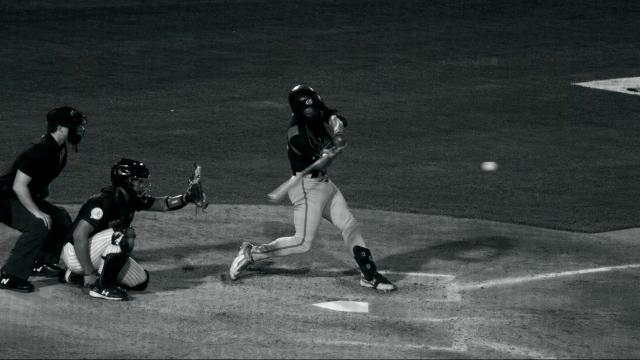baseball bat: (268, 153, 328, 204)
sports ball: (484, 162, 496, 172)
